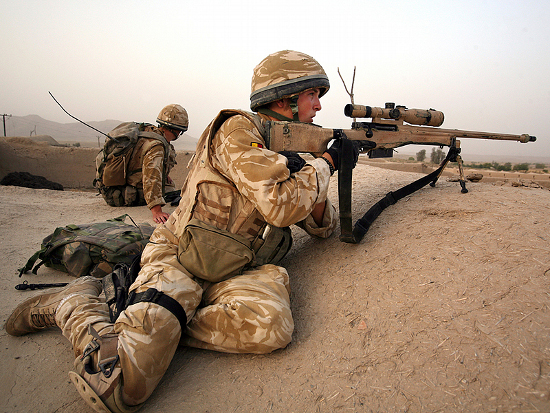Rifle: (261, 101, 537, 195)
